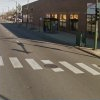crosswalk: (0, 55, 100, 75)
